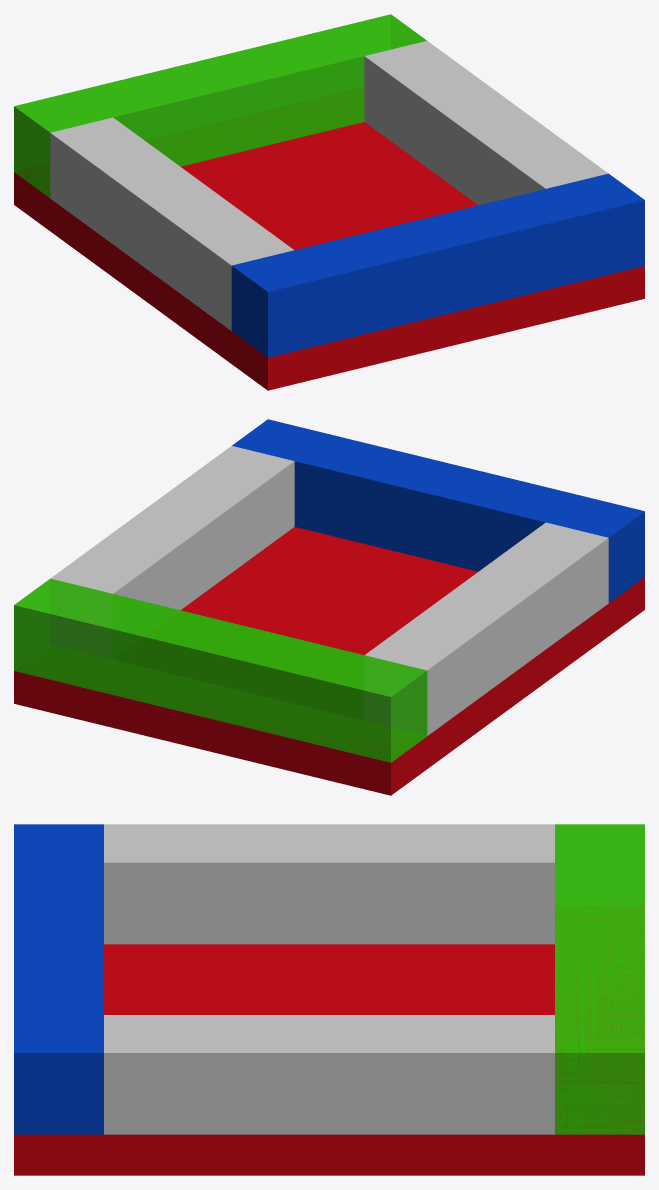
Rendered from walls.obj.
3 views of the same model, one above another, from view 1: azimuth 30°, elevation 25°; view 2: azimuth 150°, elevation 25°; view 3: azimuth 270°, elevation 25° (orthographic). The views are drawn at different scales.
Parts seen in each view (by area): view 1: Walls_Cube.003; view 2: Walls_Cube.003; view 3: Walls_Cube.003.
Boxes of the visible parts, x1,y1,x2,y2 form: Walls_Cube.003: [14, 14, 644, 390]; Walls_Cube.003: [14, 419, 644, 795]; Walls_Cube.003: [14, 824, 644, 1175].
Bounding box in the file's own units: 12 × 3 × 14.
